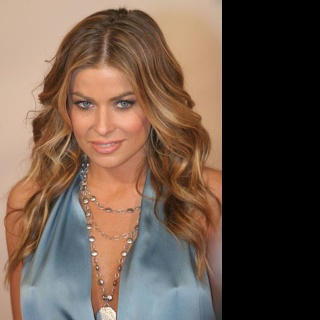without_mask: (67, 60, 153, 167)
